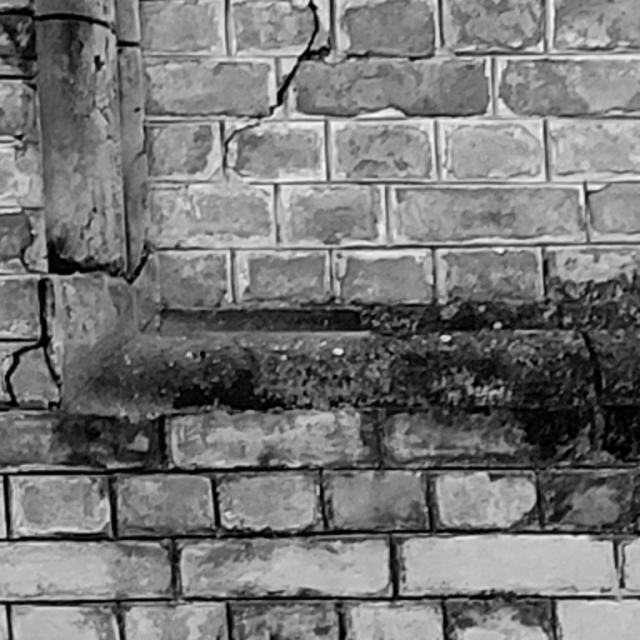crack: (221, 0, 320, 172), (1, 213, 62, 411)
